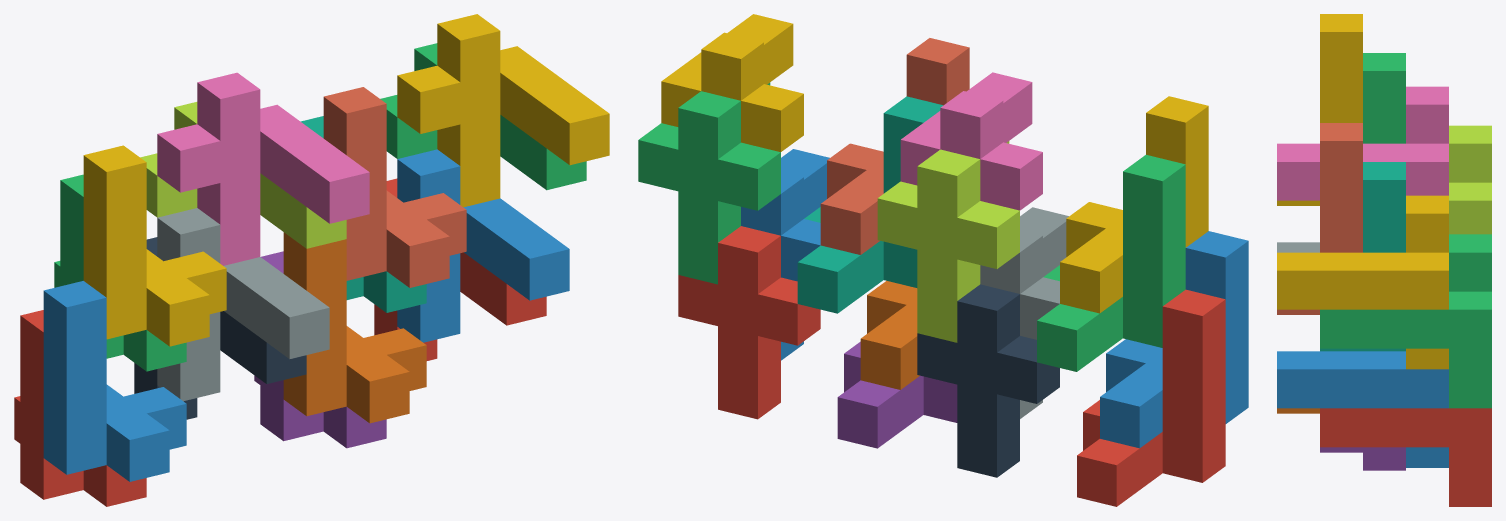
The model's file is tiling.obj.
3 views of the same model, side by side, from view 1: azimuth 30°, elevation 25°; view 2: azimuth 150°, elevation 25°; view 3: azimuth 270°, elevation 25° (orthographic). The views are drawn at different scales.
Parts seen in each view (by area): view 1: copy_2_domain_8, copy_2_domain_4, copy_1_domain_2, copy_1_domain_4, copy_1_domain_8, copy_1_domain_6, copy_2_domain_2, copy_2_domain_6, copy_1_domain_1, copy_2_domain_3, copy_2_domain_7, copy_1_domain_3 (+4 smaller); view 2: copy_1_domain_1, copy_2_domain_3, copy_1_domain_3, copy_2_domain_7, copy_2_domain_1, copy_2_domain_5, copy_1_domain_2, copy_1_domain_4, copy_2_domain_4, copy_2_domain_8, copy_1_domain_8, copy_1_domain_7 (+4 smaller); view 3: copy_2_domain_8, copy_2_domain_7, copy_2_domain_6, copy_2_domain_5, copy_2_domain_4, copy_1_domain_8, copy_1_domain_4, copy_2_domain_3, copy_1_domain_7, copy_1_domain_3, copy_1_domain_5, copy_2_domain_2 (+1 smaller).
Part boxes in pixels (bbox=[...]): copy_2_domain_8: bbox=[397, 14, 609, 207]; copy_2_domain_4: bbox=[157, 72, 369, 265]; copy_1_domain_2: bbox=[43, 281, 186, 481]; copy_1_domain_4: bbox=[83, 145, 226, 346]; copy_1_domain_8: bbox=[323, 87, 466, 287]; copy_1_domain_6: bbox=[283, 232, 426, 423]; copy_2_domain_2: bbox=[157, 208, 329, 401]; copy_2_domain_6: bbox=[397, 149, 569, 342]; copy_1_domain_1: bbox=[14, 310, 146, 506]; copy_2_domain_3: bbox=[140, 102, 346, 248]; copy_2_domain_7: bbox=[380, 43, 586, 190]; copy_1_domain_3: bbox=[54, 174, 186, 371]; copy_1_domain_1: bbox=[1077, 289, 1225, 506]; copy_2_domain_3: bbox=[877, 141, 1019, 342]; copy_1_domain_3: bbox=[1037, 155, 1185, 371]; copy_2_domain_7: bbox=[638, 82, 780, 284]; copy_2_domain_1: bbox=[917, 284, 1059, 477]; copy_2_domain_5: bbox=[678, 226, 820, 419]; copy_1_domain_2: bbox=[1100, 231, 1248, 448]; copy_1_domain_4: bbox=[1060, 96, 1208, 313]; copy_2_domain_4: bbox=[900, 72, 1042, 210]; copy_2_domain_8: bbox=[661, 14, 803, 152]; copy_1_domain_8: bbox=[820, 38, 969, 254]; copy_1_domain_7: bbox=[797, 96, 943, 313]; copy_2_domain_8: bbox=[1277, 195, 1448, 369]; copy_2_domain_7: bbox=[1320, 234, 1491, 408]; copy_2_domain_6: bbox=[1277, 351, 1448, 467]; copy_2_domain_5: bbox=[1320, 408, 1491, 506]; copy_2_domain_4: bbox=[1277, 86, 1448, 200]; copy_1_domain_8: bbox=[1277, 123, 1362, 314]; copy_1_domain_4: bbox=[1277, 14, 1362, 205]; copy_2_domain_3: bbox=[1449, 125, 1491, 234]; copy_1_domain_7: bbox=[1320, 162, 1405, 351]; copy_1_domain_3: bbox=[1363, 53, 1405, 143]; copy_1_domain_5: bbox=[1320, 447, 1405, 470]; copy_2_domain_2: bbox=[1277, 242, 1319, 252].
Bounding box in the file's own units: 13 × 8 × 5.
